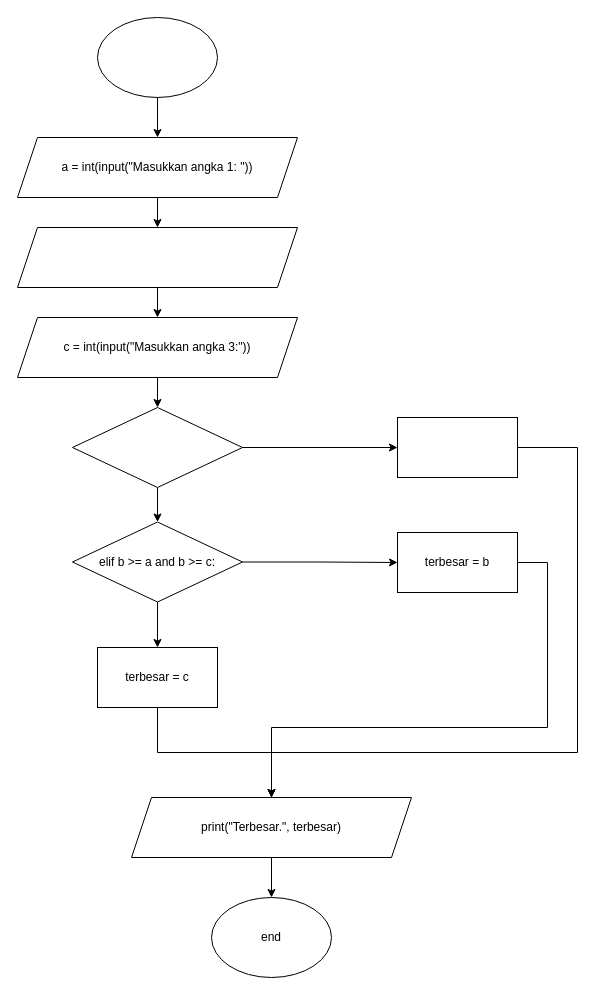
This 603x995 diagram has some shape labels left out. The centre of each missing label's shape, as x and y in pixels:
b = int(input("Masukkan angka 2: ")): (157,257)
if a >= b and a >= c:: (157,447)
start: (157,57)
terbesar = a: (457,447)
